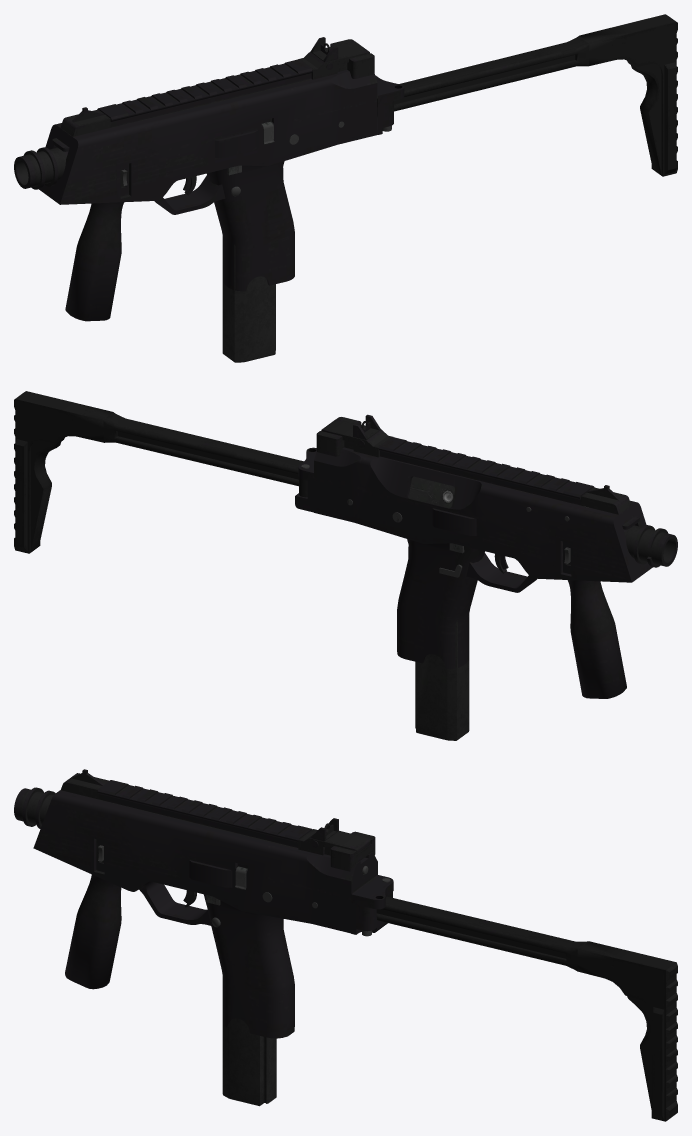
File: weapon_tpm.glb
3 views of the same model, one above another, from view 1: azimuth 30°, elevation 25°; view 2: azimuth 150°, elevation 25°; view 3: azimuth 330°, elevation 25° (orthographic).
Parts seen in each view (by area): view 1: main_frame_tpm, stock_tpm, grip_tpm, handguard_tpm, magazine_tpm, barrel_tpm; view 2: main_frame_tpm, stock_tpm, grip_tpm, handguard_tpm, magazine_tpm, barrel_tpm; view 3: main_frame_tpm, stock_tpm, grip_tpm, handguard_tpm, magazine_tpm, barrel_tpm.
Boxes of the visible parts, x1,y1,x2,y2 form: main_frame_tpm: [39, 39, 377, 204]; stock_tpm: [375, 14, 677, 176]; grip_tpm: [154, 161, 294, 291]; handguard_tpm: [65, 202, 123, 321]; magazine_tpm: [222, 236, 275, 362]; barrel_tpm: [14, 147, 68, 189]; main_frame_tpm: [314, 417, 652, 582]; stock_tpm: [14, 391, 316, 553]; grip_tpm: [397, 539, 537, 668]; handguard_tpm: [567, 580, 626, 698]; magazine_tpm: [415, 614, 469, 740]; barrel_tpm: [623, 525, 677, 567]; main_frame_tpm: [33, 773, 377, 933]; stock_tpm: [351, 875, 677, 1121]; grip_tpm: [139, 881, 294, 1038]; handguard_tpm: [65, 874, 121, 989]; magazine_tpm: [222, 976, 276, 1106]; barrel_tpm: [14, 787, 55, 828].
Bounding box in the file's own units: 53.9 × 23.08 × 4.27.
4 materials, 4 textured.
